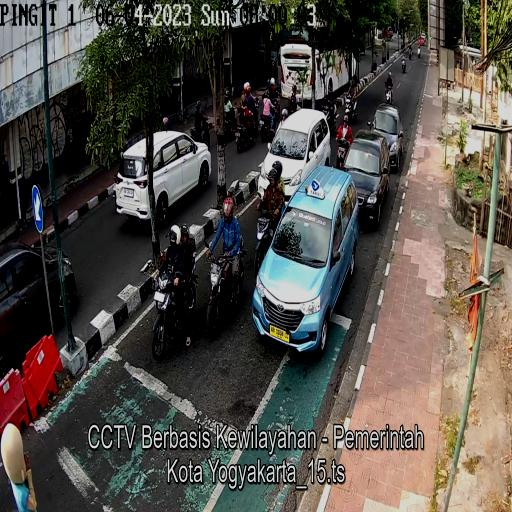mobil: (254, 168, 357, 350), (260, 110, 330, 207), (345, 130, 392, 228), (367, 101, 404, 171)
motor: (153, 248, 196, 359), (206, 231, 246, 342), (255, 188, 286, 273), (334, 130, 353, 174), (320, 99, 338, 133), (344, 92, 359, 123), (384, 80, 394, 106)
